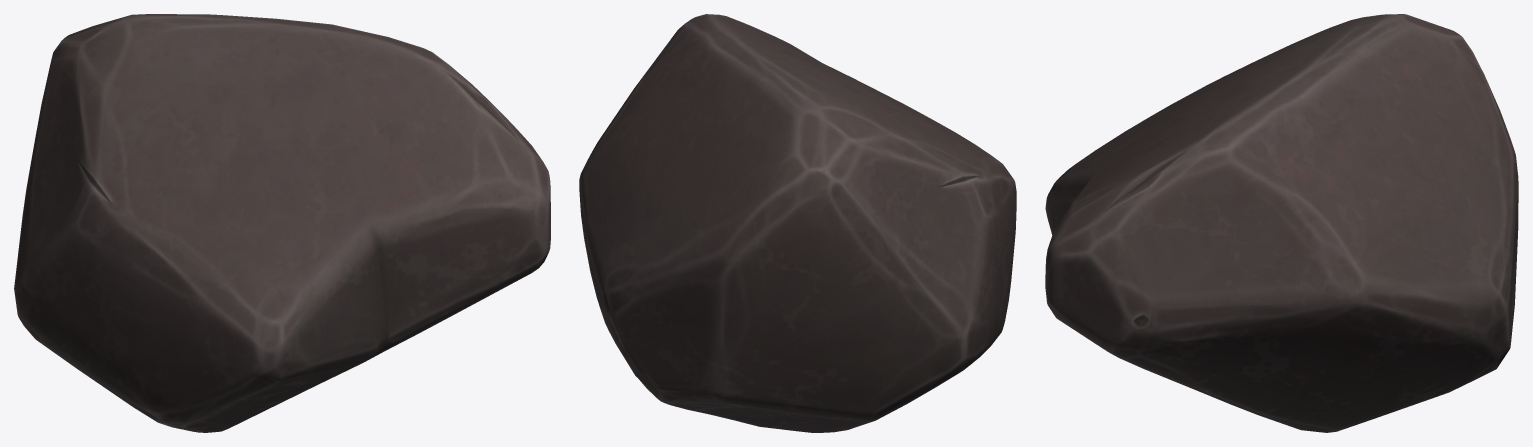
File: obsidian_cracked_e.glb
3 renders of one model, left to right at view 1: azimuth 30°, elevation 25°; view 2: azimuth 150°, elevation 25°; view 3: azimuth 270°, elevation 25°, orthographic. The views are drawn at different scales.
Parts seen in each view (by area): view 1: SM_KC_Base_Stone_Small_01_E; view 2: SM_KC_Base_Stone_Small_01_E; view 3: SM_KC_Base_Stone_Small_01_E.
Part boxes in pixels (box(x1,y1,x2,y2)): SM_KC_Base_Stone_Small_01_E: box(14, 14, 550, 432); SM_KC_Base_Stone_Small_01_E: box(579, 14, 1016, 432); SM_KC_Base_Stone_Small_01_E: box(1045, 14, 1518, 432).
Bounding box in the file's own units: 0.2045 × 0.1764 × 0.1968.
Materials: 1 (1 with a texture image).
